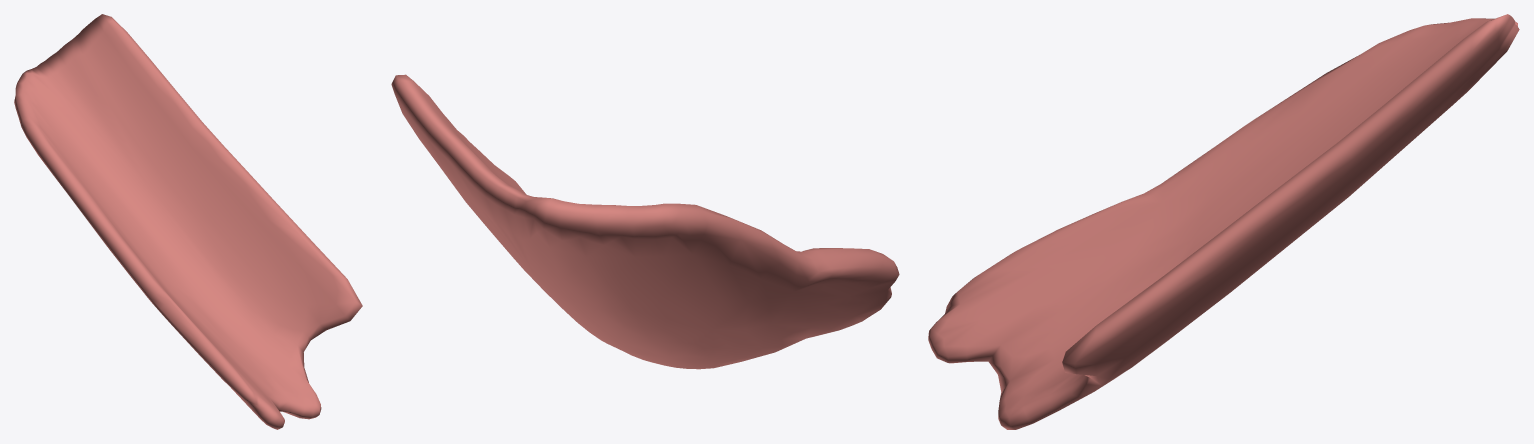
3 renders of one model, left to right at view 1: azimuth 30°, elevation 25°; view 2: azimuth 150°, elevation 25°; view 3: azimuth 270°, elevation 25°, orthographic. The views are drawn at different scales.
Parts seen in each view (by area): view 1: ZA_89e1a8e994b7f365; view 2: ZA_89e1a8e994b7f365; view 3: ZA_89e1a8e994b7f365.
Boxes of the visible parts, <box> form: ZA_89e1a8e994b7f365: <box>14,14,362,429</box>; ZA_89e1a8e994b7f365: <box>391,74,899,369</box>; ZA_89e1a8e994b7f365: <box>928,14,1519,429</box>.
Bounding box in the file's own units: 0.00697 × 0.00883 × 0.0121.
